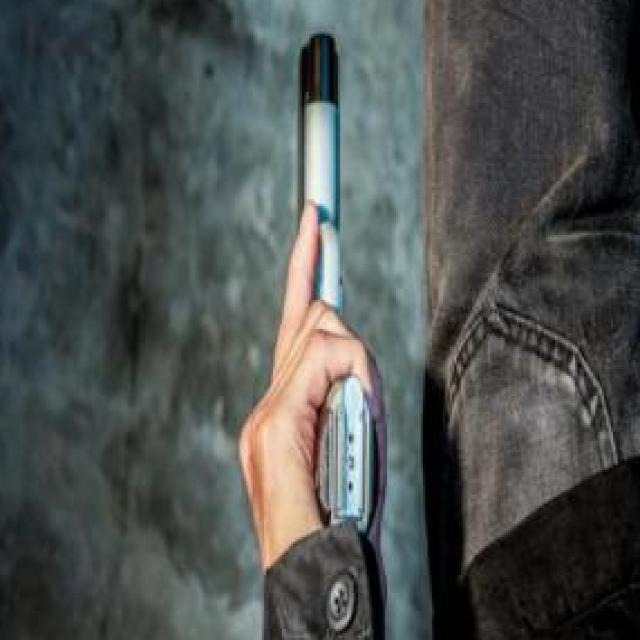pistol: (282, 32, 374, 546)
